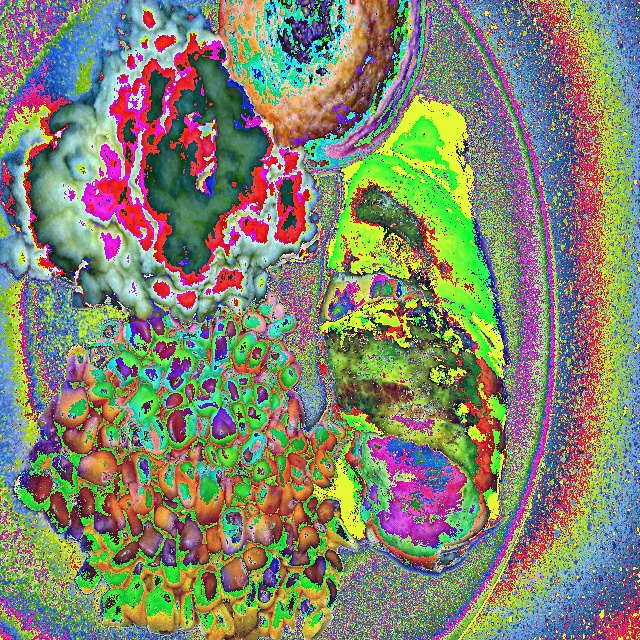background: (0, 5, 513, 639)
